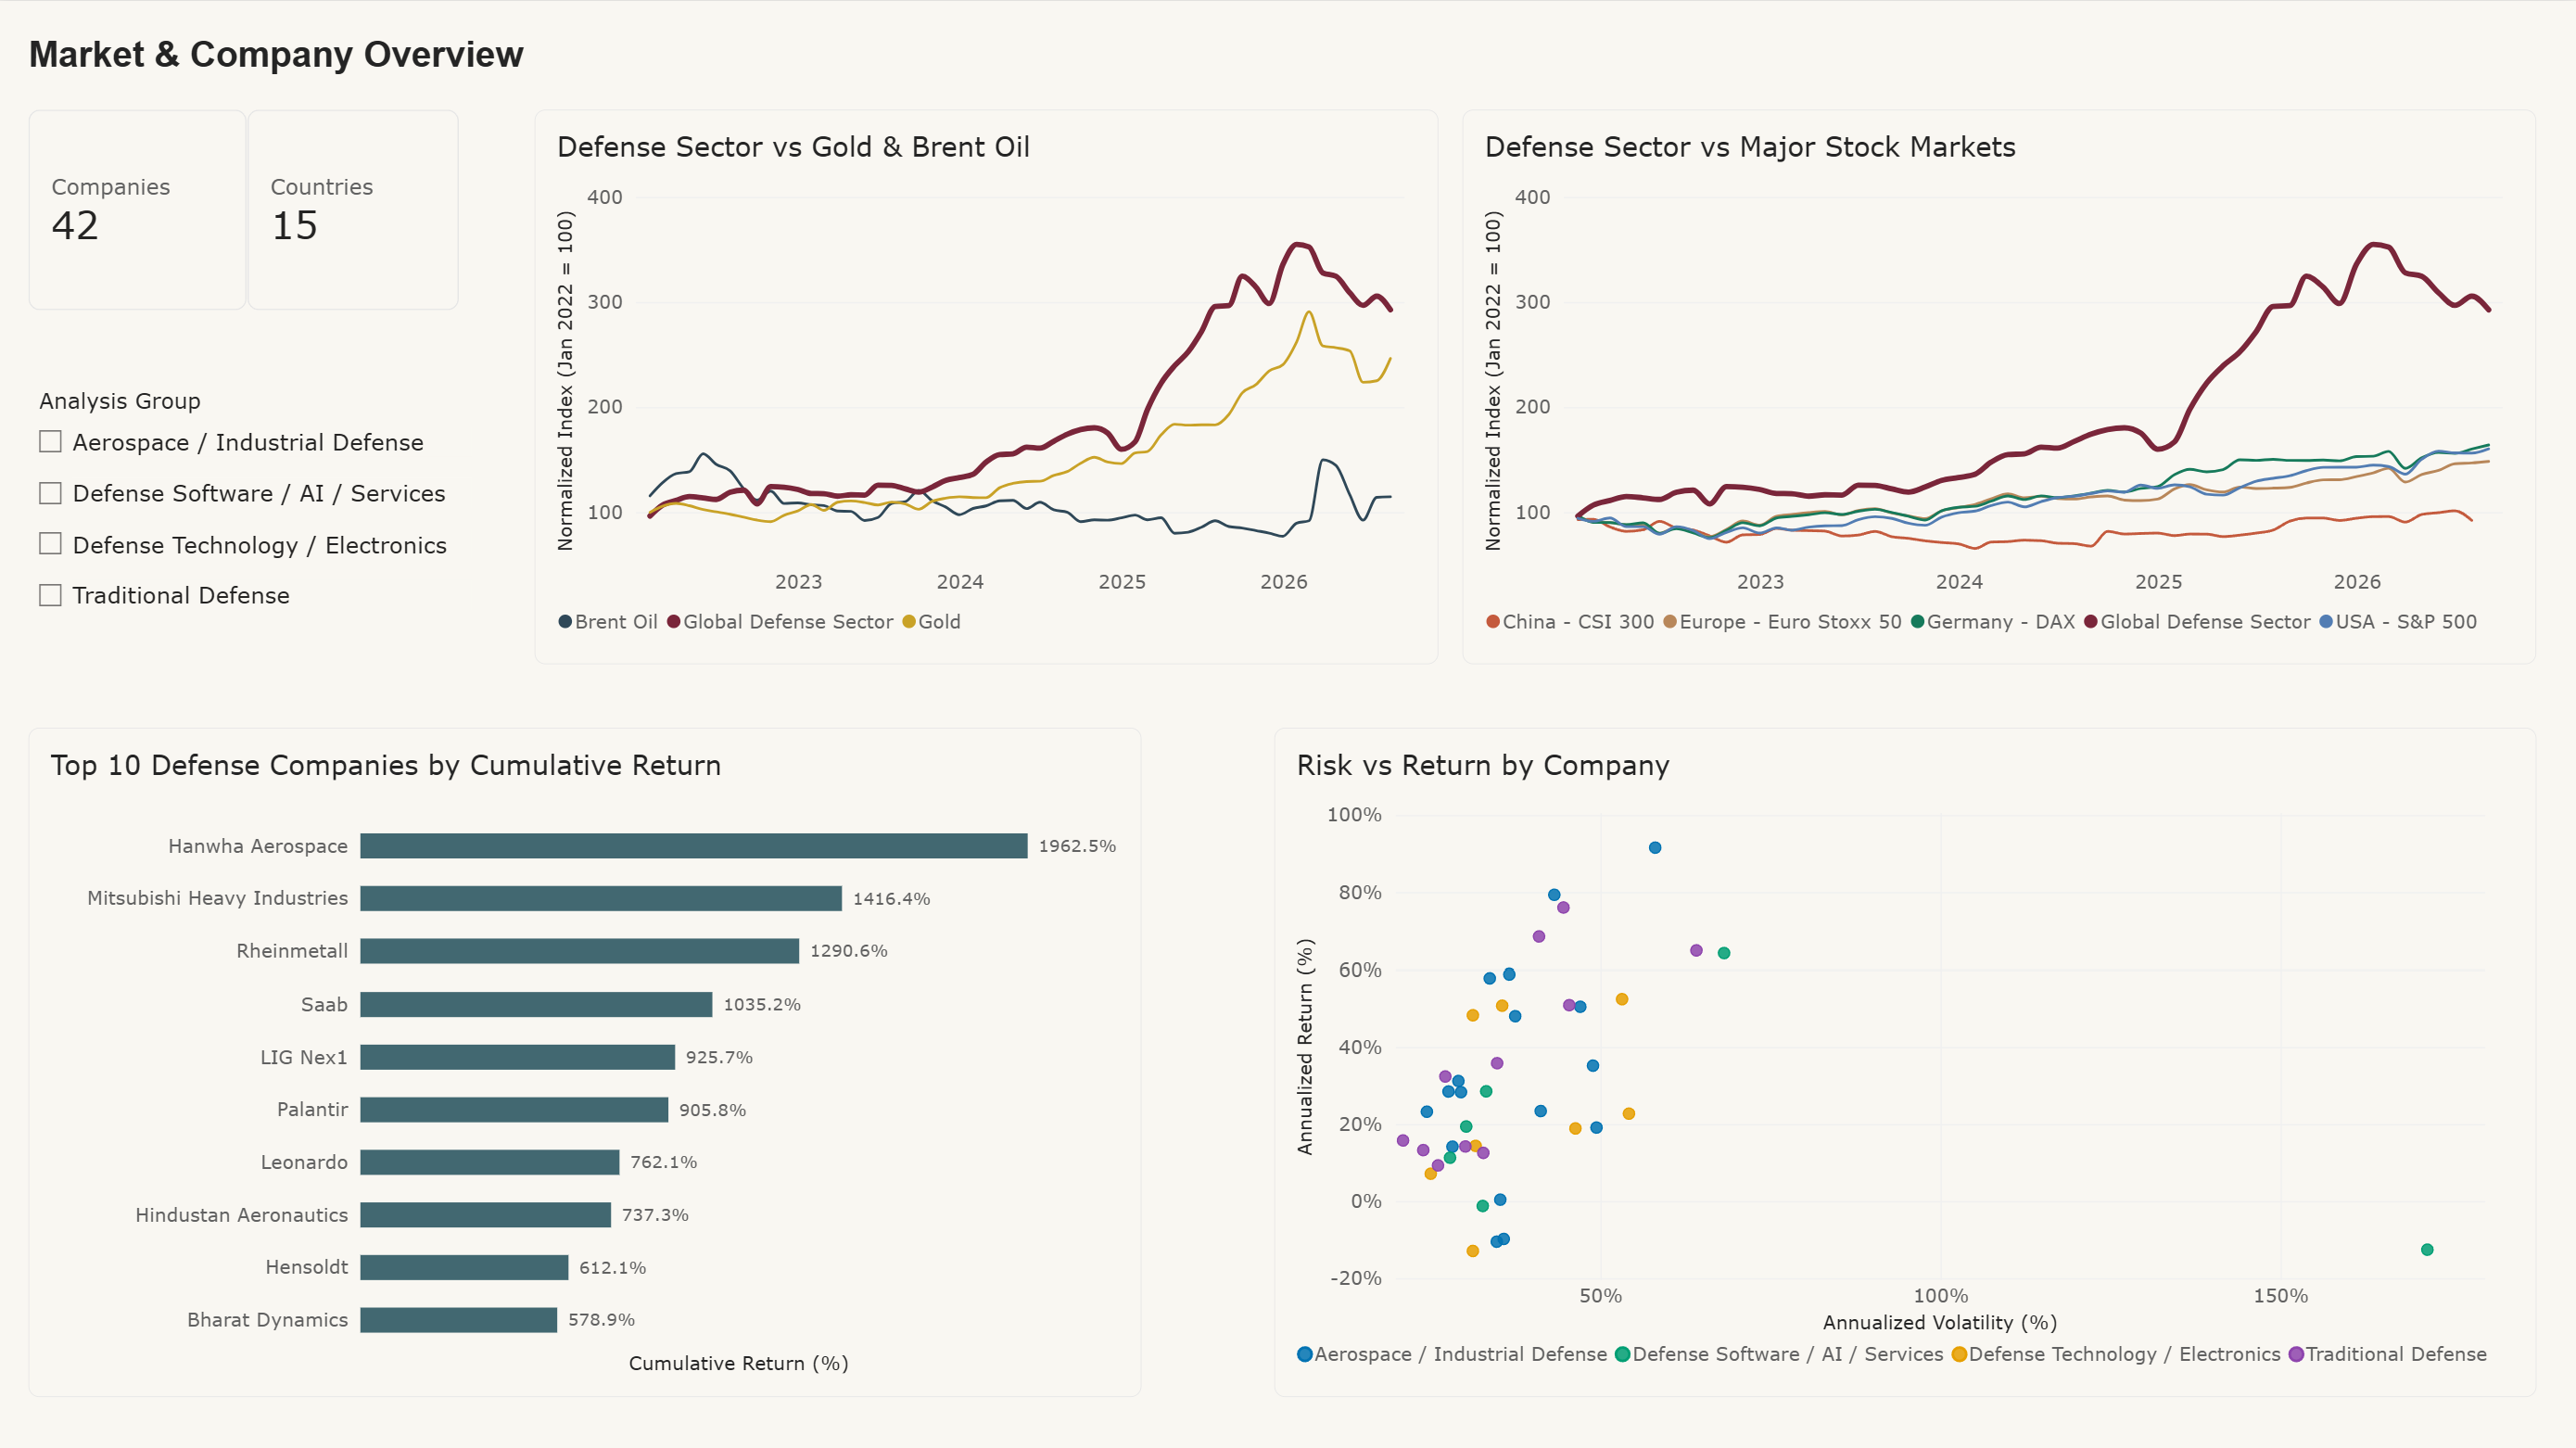

This screenshot's page, from the dashboard's own definition file:
{"tool":"powerbi","page":{"name":"Market & Company Overview","canvas":[1920,1080],"ordinal":0},"visuals":[{"type":"textbox","box":[25.3,24.1,376,56.6],"z":0},{"type":"cardVisual","fields":{"Data":["Count(company_metadata.Ticker)"]},"box":[25.3,80.7,162.7,149.4],"z":1000},{"type":"cardVisual","fields":{"Data":["Count(company_metadata.Country)"]},"box":[188,80.7,157.9,149.4],"z":2000},{"type":"lineChart","title":"Defense Sector vs Major Stock Markets","fields":{"Category":["market_comparison_powerbi.Date"],"Series":["market_comparison_powerbi.Asset"],"Y":["Sum(market_comparison_powerbi.Normalized_Index)"]},"box":[1090.7,80.7,797.8,412.2],"z":3000},{"type":"barChart","title":"Top 10 Defense Companies by Cumulative Return","fields":{"Category":["company_metadata.Company"],"Y":["Sum(company_metadata.Cumulative_Return_%)"]},"box":[25.3,539.9,826.7,496.5],"z":4000},{"type":"scatterChart","title":"Risk vs Return by Company","fields":{"Category":["company_metadata.Company"],"Series":["company_metadata.Analysis_Group"],"X":["Sum(company_metadata.Annualized_Volatility_%)"],"Y":["Sum(company_metadata.Annualized_Return_%)"]},"box":[950.9,539.9,937.6,496.5],"z":5000},{"type":"slicer","fields":{"Values":["company_metadata.Analysis_Group"]},"box":[25.3,286.8,329,188],"z":8000},{"type":"lineChart","title":"Defense Sector vs Gold & Brent Oil","fields":{"Category":["market_comparison_powerbi.Date"],"Series":["market_comparison_powerbi.Asset"],"Y":["Sum(market_comparison_powerbi.Normalized_Index)"]},"box":[401.3,80.7,671.3,412.2],"z":8001}]}

Visuals, with their boxes in screenshot pixels (x1, y1, x2, y2), scaled from the page's 1920x1080 canvas onto the 2576x1448 screenshot:
textbox: left=34, top=32, right=539, bottom=108
cardVisual - Count(company_metadata.Ticker): left=34, top=108, right=252, bottom=309
cardVisual - Count(company_metadata.Country): left=252, top=108, right=464, bottom=309
"Defense Sector vs Major Stock Markets" lineChart: left=1464, top=108, right=2533, bottom=661
"Top 10 Defense Companies by Cumulative Return" barChart: left=34, top=724, right=1143, bottom=1390
"Risk vs Return by Company" scatterChart: left=1275, top=724, right=2533, bottom=1390
slicer - company_metadata.Analysis_Group: left=34, top=385, right=476, bottom=637
"Defense Sector vs Gold & Brent Oil" lineChart: left=539, top=108, right=1439, bottom=661
